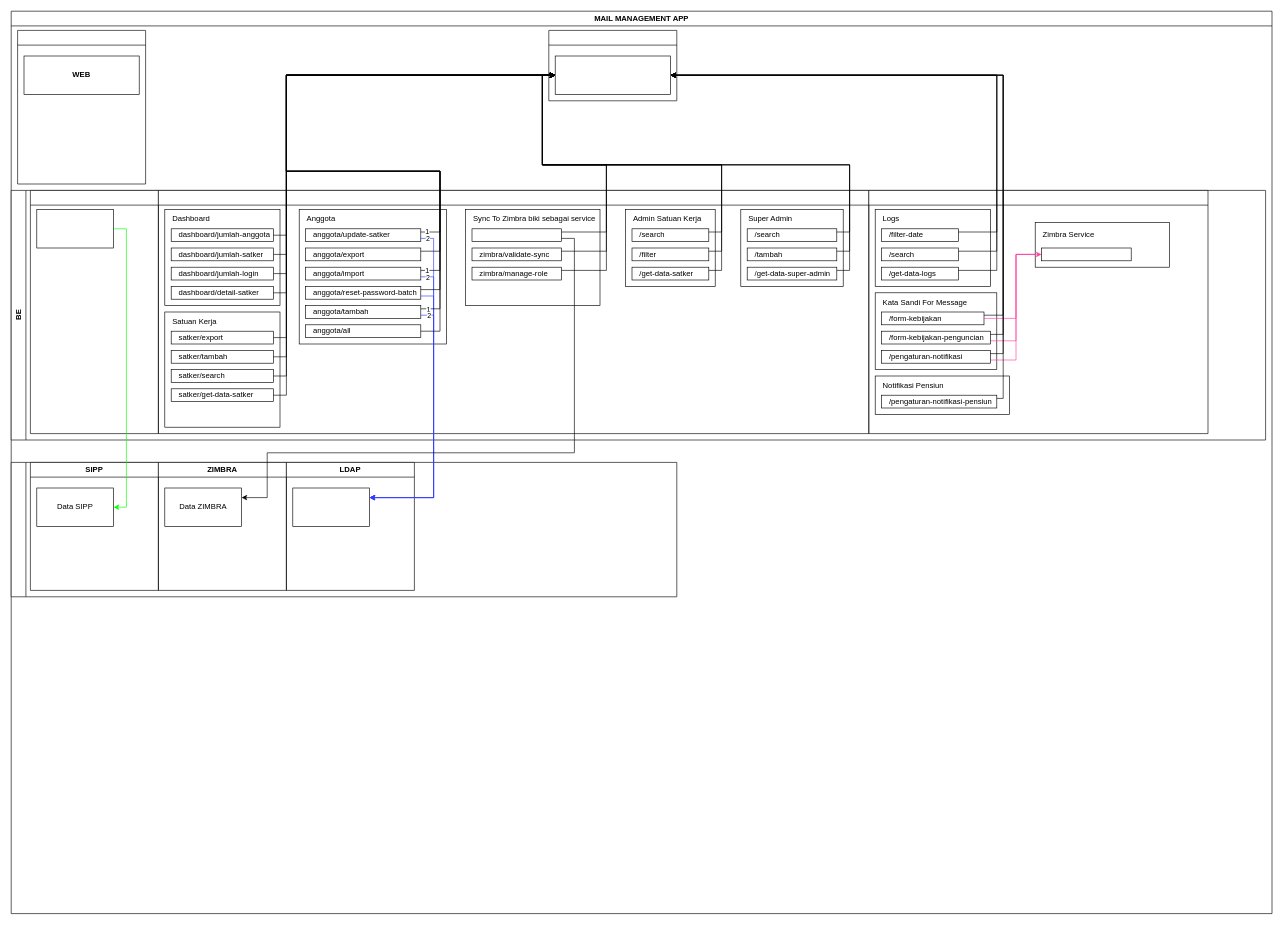
This 1283x925 diagram has some shape labels left out. Each missing label, with the box of its shape:
Auth: (36, 209, 114, 248)
DATA: (555, 55, 670, 94)
Data LDAP: (292, 487, 370, 526)
Database: (548, 30, 677, 101)
EKTERNAL: (11, 462, 677, 597)
FronEnd: (17, 30, 146, 184)
MM-AUTH-SERVICE: (30, 190, 158, 434)
MM-MAIL-SERVICE: (868, 190, 1208, 434)
MM-USER-SERVICE: (158, 190, 869, 434)
zimbra/message: (1041, 247, 1131, 261)
zimbra/sync: (471, 228, 562, 242)
